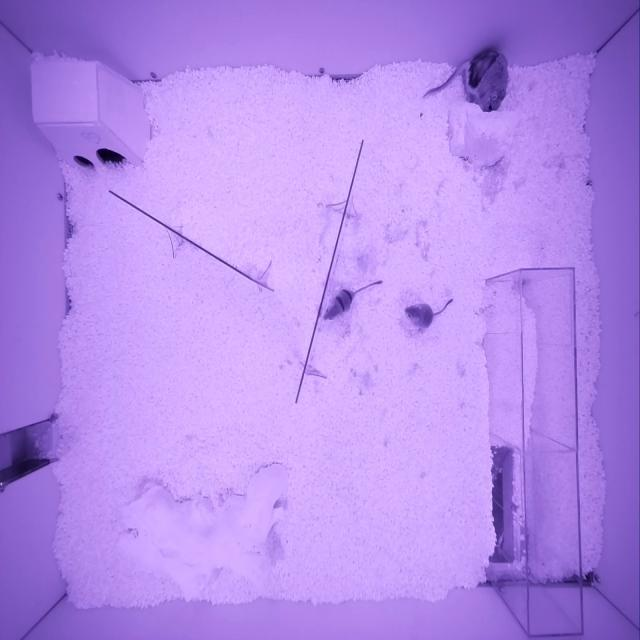adult_back: (464, 50, 507, 112)
pup_fluffy: (404, 303, 434, 330)
pup_h_stripe: (322, 288, 356, 320)
